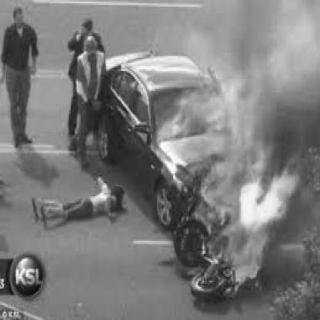Fire: (198, 102, 300, 290)
Smoke: (217, 9, 313, 109)
